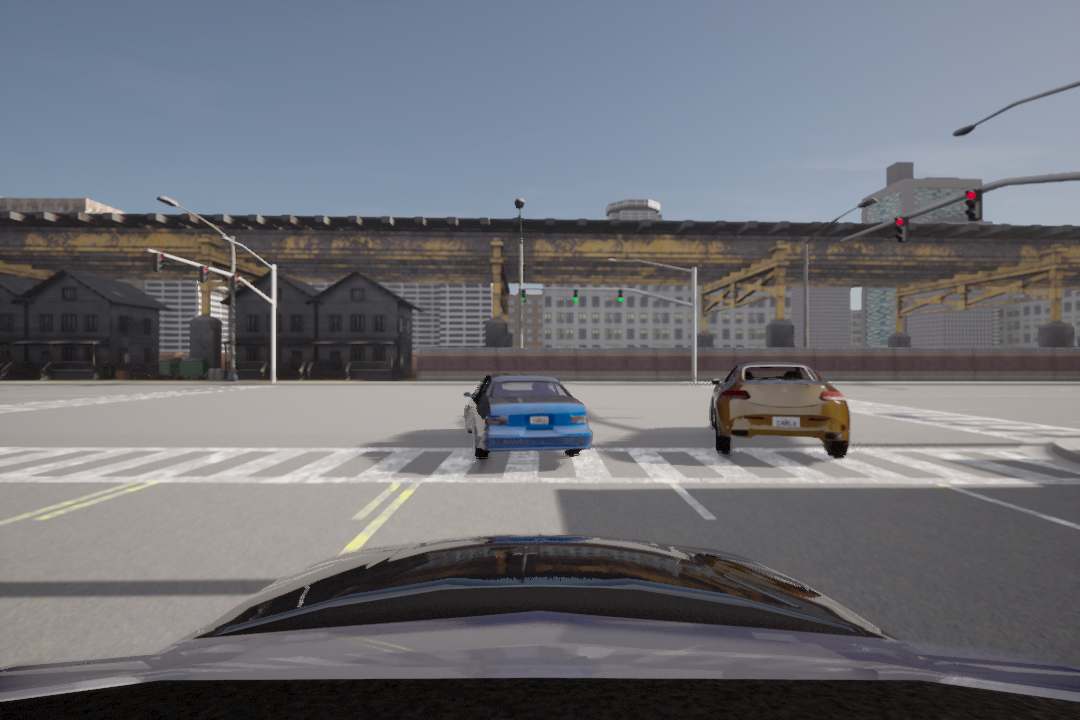TrafficLight: (964, 187, 985, 224), (893, 214, 907, 243), (151, 249, 164, 274), (197, 263, 210, 286), (232, 271, 240, 297), (615, 288, 624, 305), (519, 287, 527, 304), (571, 288, 578, 304)
walkside: (2, 439, 1080, 501)
